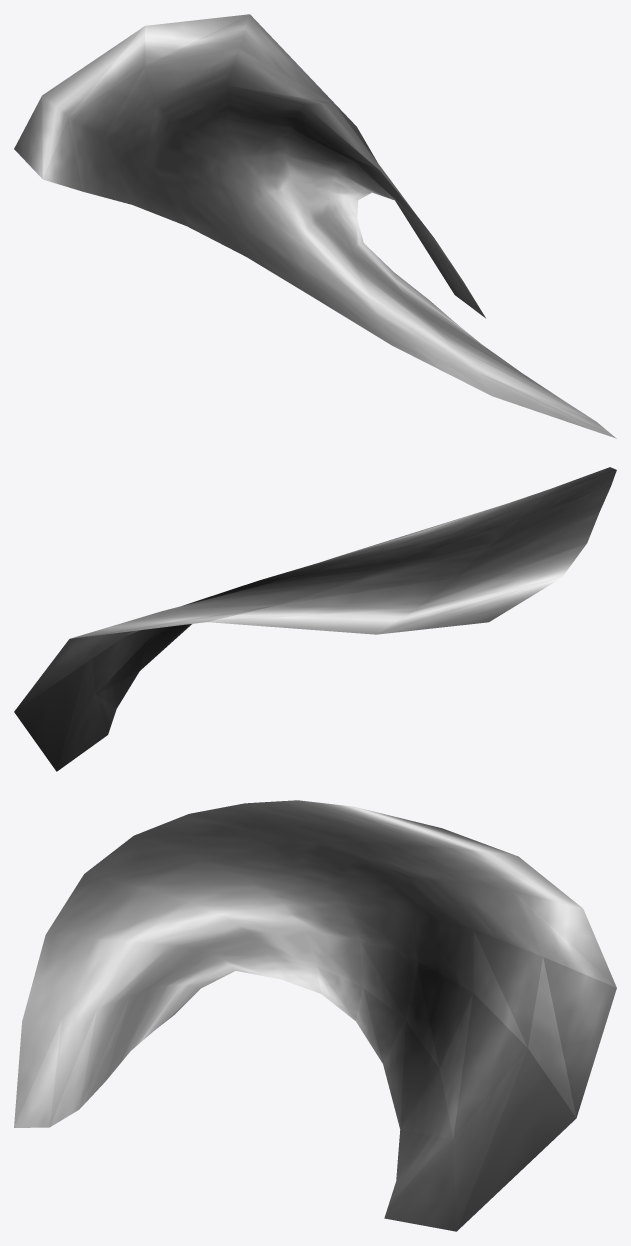
The model's file is 0041_Mikal@Atk2.fbx.
3 views of the same model, one above another, from view 1: azimuth 30°, elevation 25°; view 2: azimuth 150°, elevation 25°; view 3: azimuth 270°, elevation 25° (orthographic). The views are drawn at different scales.
Parts seen in each view (by area): view 1: daoguang_bo_01; view 2: daoguang_bo_01; view 3: daoguang_bo_01.
Boxes of the visible parts, bbox=[...] form: daoguang_bo_01: bbox=[14, 14, 616, 438]; daoguang_bo_01: bbox=[14, 467, 616, 771]; daoguang_bo_01: bbox=[14, 800, 616, 1231].
Bounding box in the file's own units: 6.31 × 3.72 × 8.3.
Materials: 1 (1 with a texture image).
